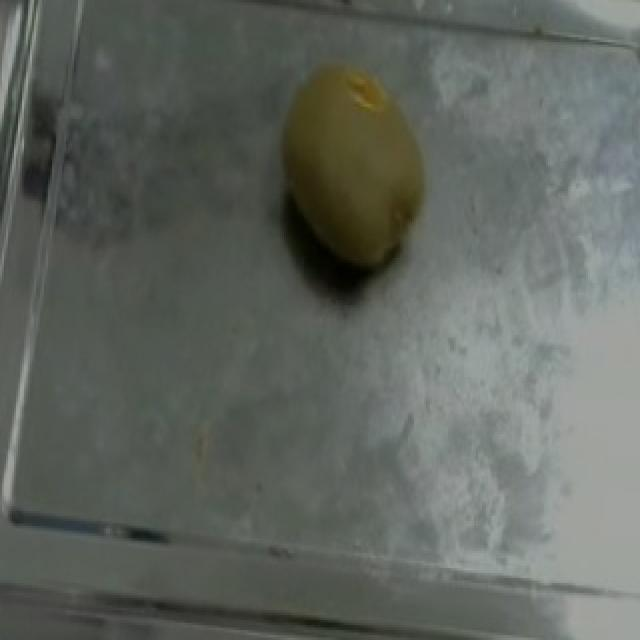Fruit: (262, 50, 444, 288)
